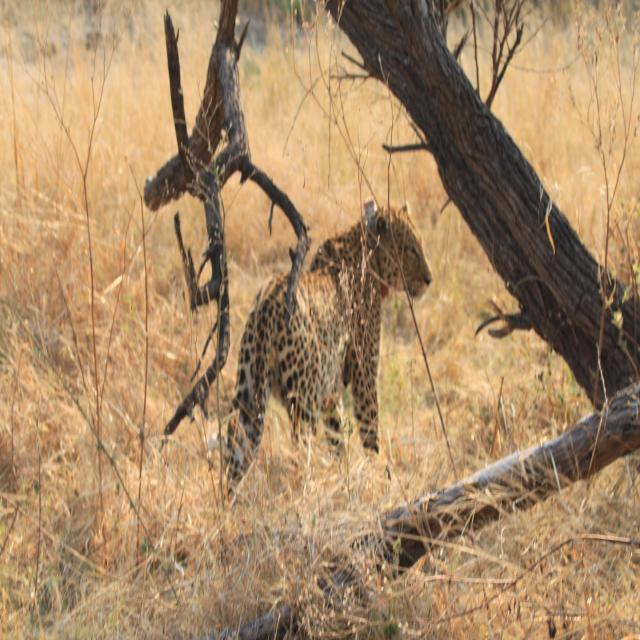Leopard: (192, 203, 432, 493)
